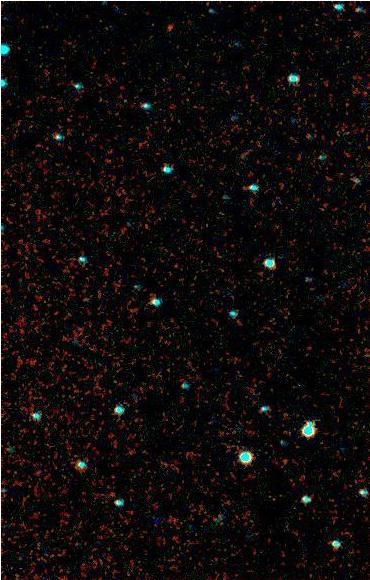star: (152, 11, 182, 41)
